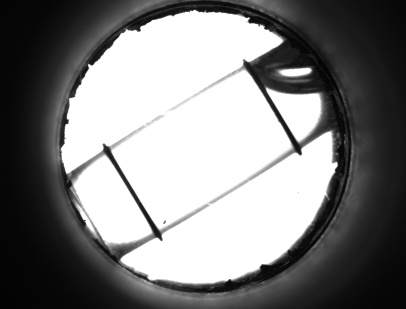line: (108, 167, 157, 218), (262, 104, 300, 134)
